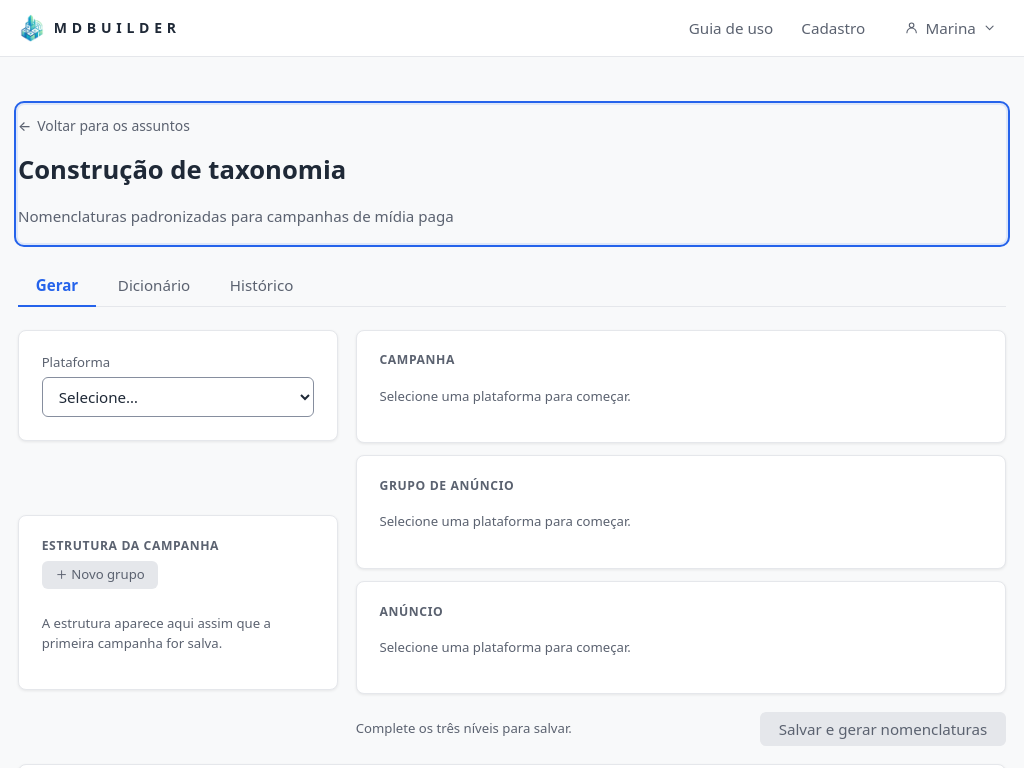
Test: sessão expirada no meio de um formulário › sair pelo diálogo descarta tudo e vai para o login
Select "Meta (METAA)" in the dropdown labelled "Plataforma" at (178, 397), box left=42, top=377, right=314, bottom=417
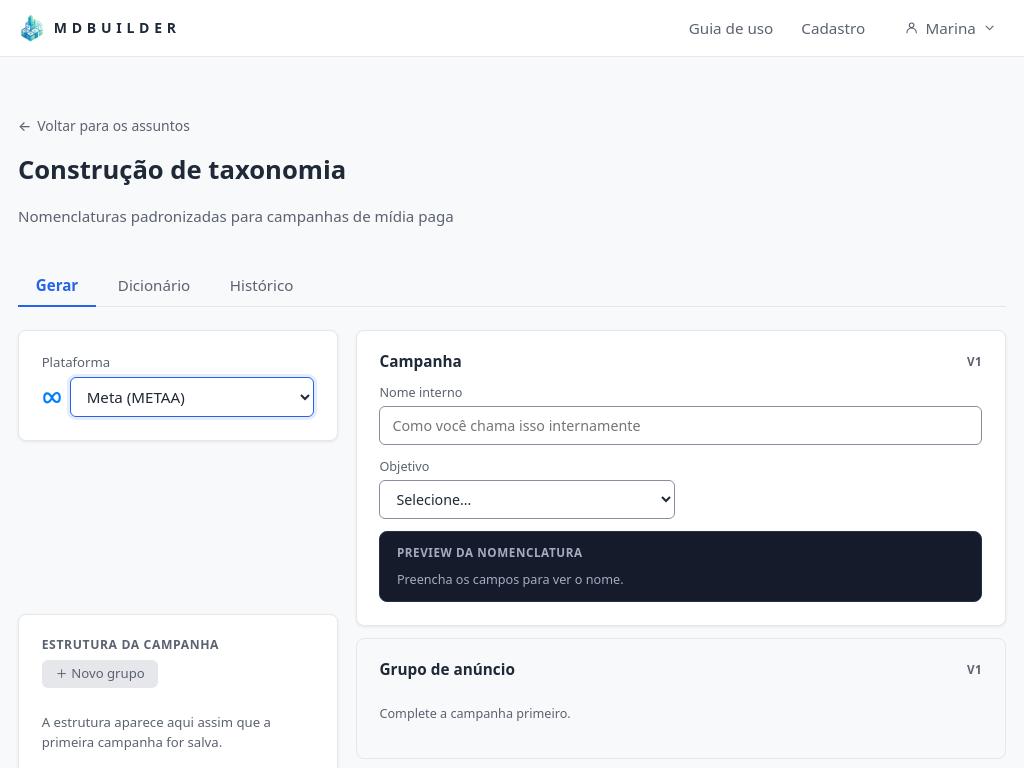
Type "Black Friday 2026" into the field labelled "Nome interno" at (681, 426), box left=380, top=406, right=982, bottom=445
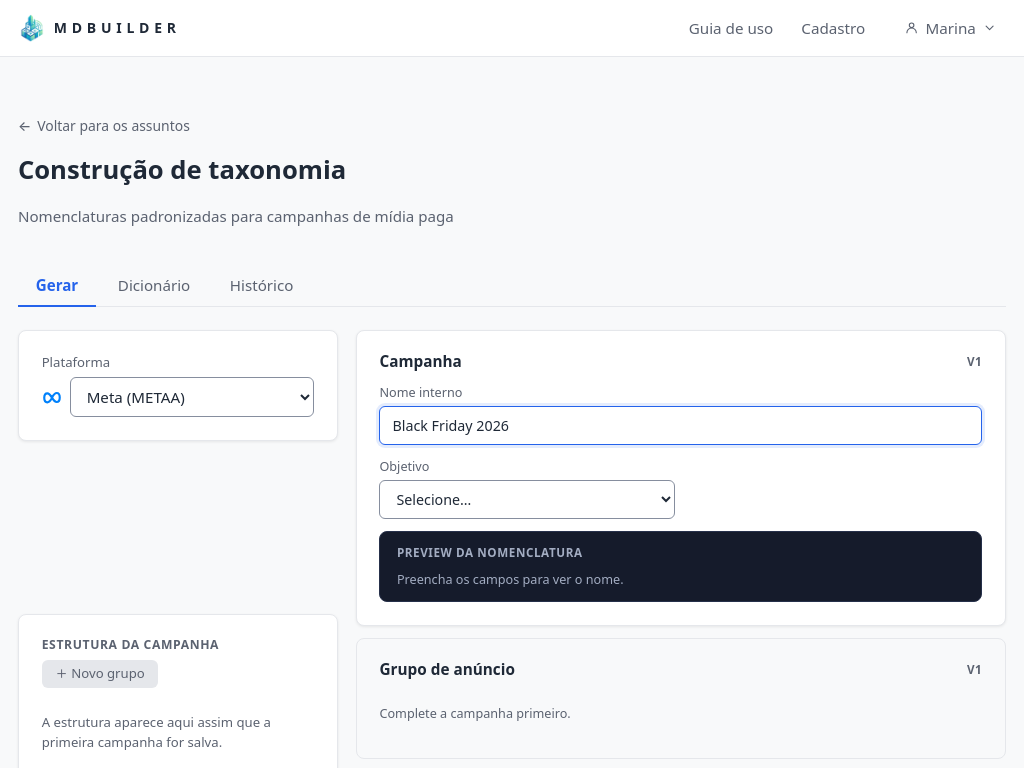
Select "Conversão → CV" in the dropdown labelled "Objetivo" at (527, 500), box left=380, top=480, right=675, bottom=519
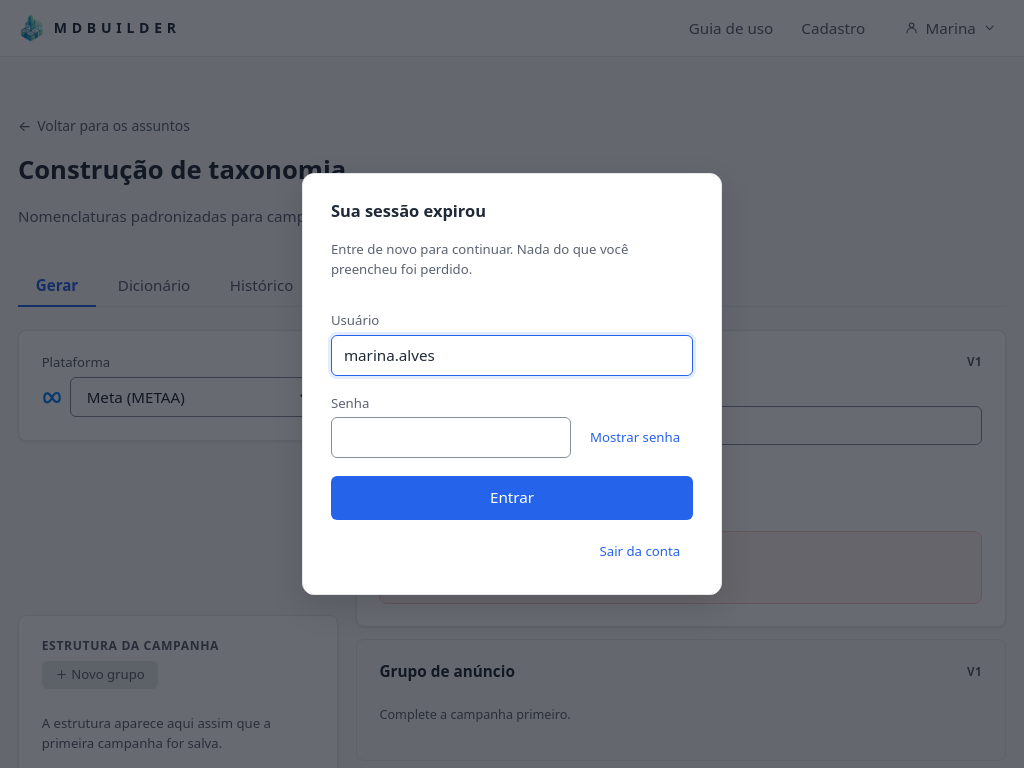
Click the button "Sair da conta" at (640, 552), box left=586, top=538, right=693, bottom=566
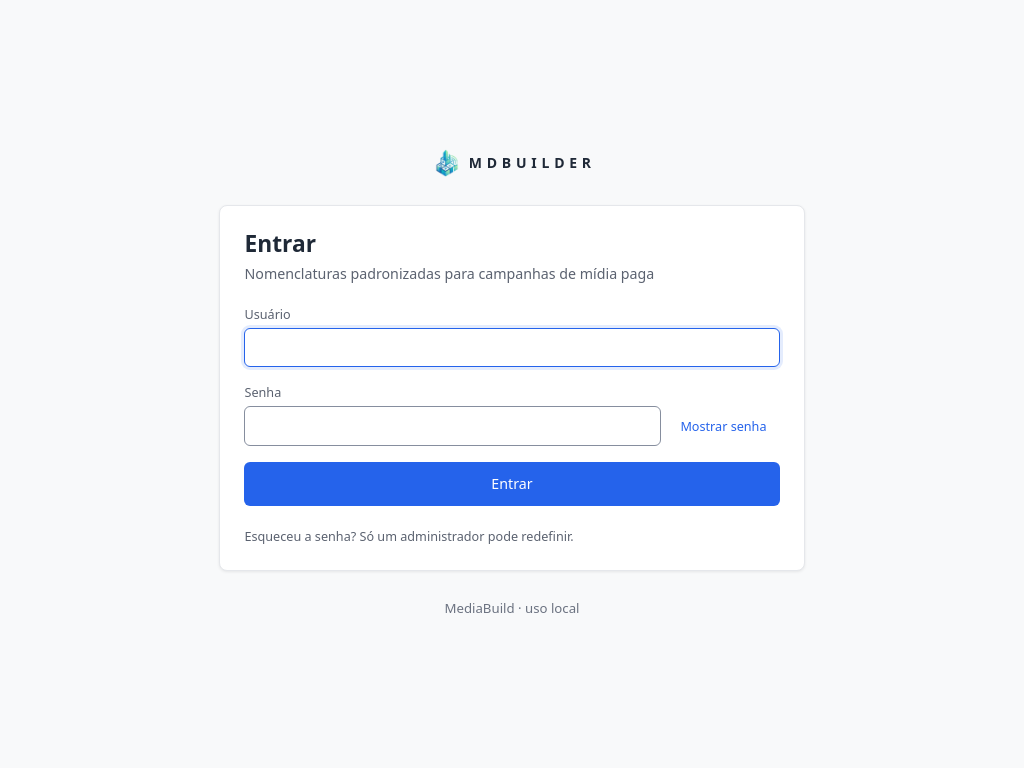
Now the heading "Entrar" is shown, box left=244, top=228, right=316, bottom=259
Now the label labelled "Nome interno" is gone
